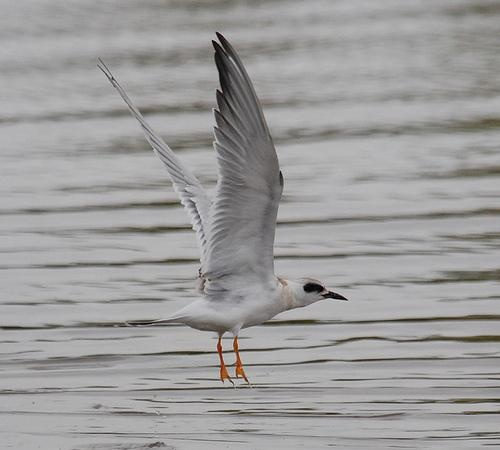bird: (88, 29, 349, 381)
